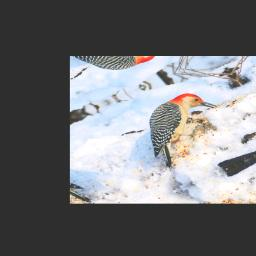Woodpecker: (119, 86, 247, 173)
